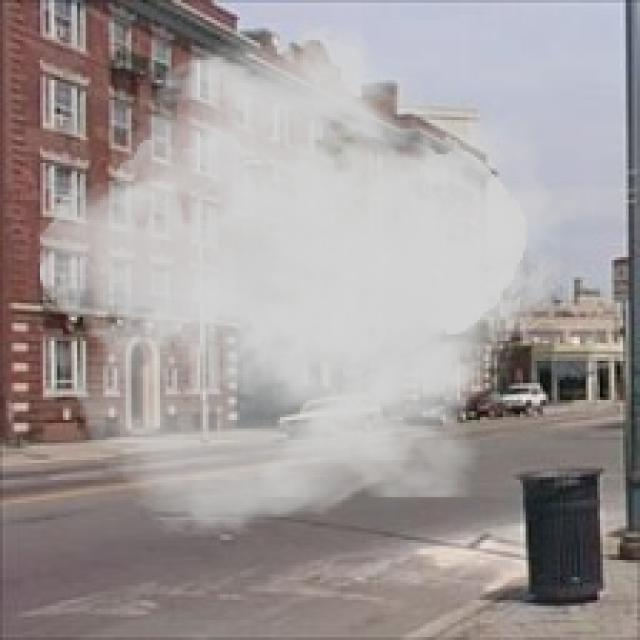smoke: (37, 14, 583, 543)
